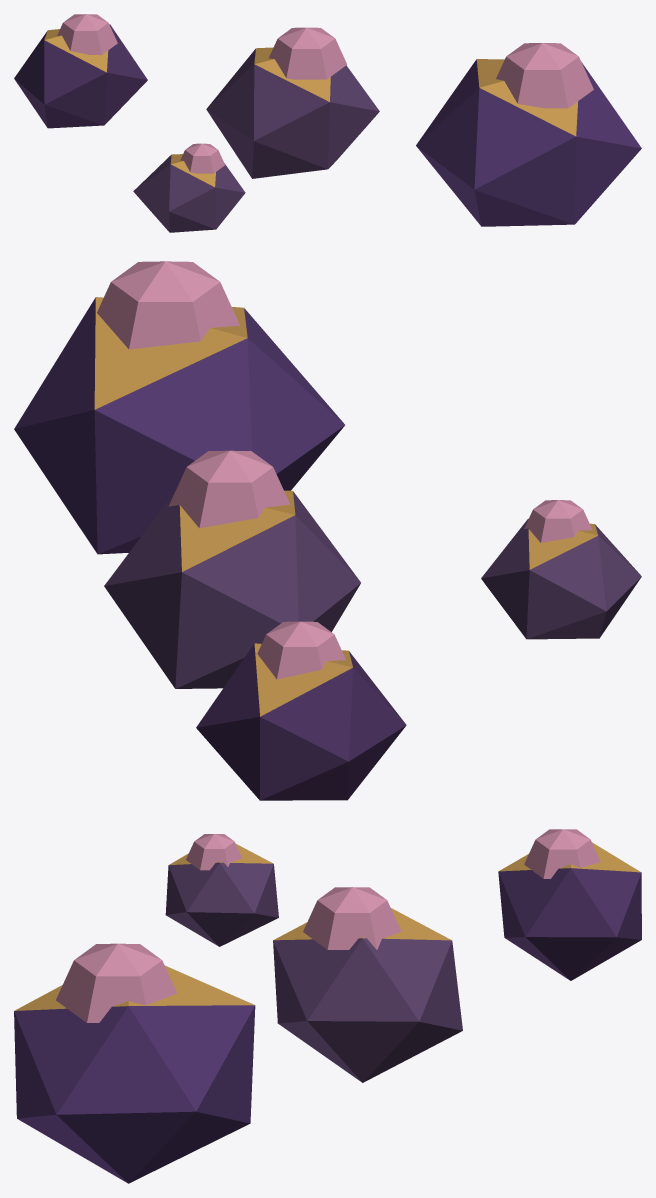
The model's file is glassite_pebbles.gltf.
The picture shows the model from 3 angles, top to bottom: view 1: azimuth 30°, elevation 25°; view 2: azimuth 150°, elevation 25°; view 3: azimuth 270°, elevation 25°; orthographic projection. The views are drawn at different scales.
Parts seen in each view (by area): view 1: pebble_a, pebble_b, pebble_c, pebble_d, cap_a, cap_b, cap_c, cap_d; view 2: pebble_a, pebble_b, pebble_c, pebble_d, cap_a, cap_b, cap_c, cap_d; view 3: pebble_a, pebble_b, pebble_c, pebble_d, cap_a, cap_b, cap_c, cap_d.
Part boxes in pixels (<box>): pebble_a: <box>416,59,641,226</box>; pebble_b: <box>206,47,379,178</box>; pebble_c: <box>14,24,147,128</box>; pebble_d: <box>133,154,245,232</box>; cap_a: <box>496,43,593,108</box>; cap_b: <box>268,27,346,79</box>; cap_c: <box>57,14,117,54</box>; cap_d: <box>180,143,224,173</box>; pebble_a: <box>14,297,344,554</box>; pebble_b: <box>104,490,360,688</box>; pebble_c: <box>196,643,406,800</box>; pebble_d: <box>481,518,641,639</box>; cap_a: <box>97,261,239,349</box>; cap_b: <box>169,450,290,528</box>; cap_c: <box>257,621,345,679</box>; cap_d: <box>524,500,592,542</box>; pebble_a: <box>14,965,255,1183</box>; pebble_b: <box>273,908,462,1082</box>; pebble_c: <box>498,842,641,980</box>; pebble_d: <box>165,844,278,946</box>; cap_a: <box>56,943,176,1022</box>; cap_b: <box>303,887,401,949</box>; cap_c: <box>524,829,600,878</box>; cap_d: <box>186,834,242,870</box>.
Bounding box in the file's own units: 2.29 × 0.9145 × 2.41.
